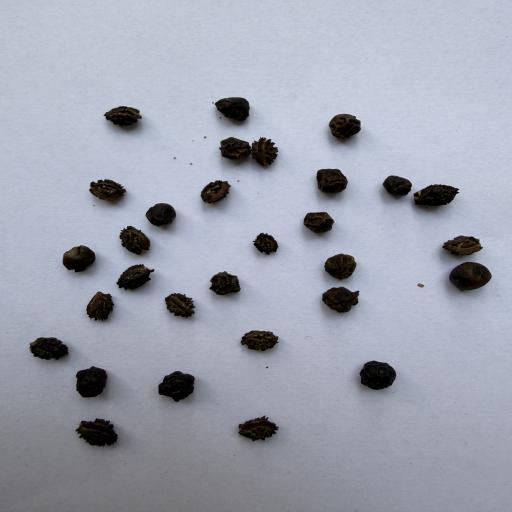Black_pepper: (315, 280, 383, 326), (198, 266, 254, 299), (155, 370, 196, 402), (70, 367, 109, 399), (210, 95, 254, 123), (452, 261, 492, 291), (60, 244, 98, 275), (362, 361, 398, 391), (328, 113, 363, 140), (143, 202, 179, 228), (318, 167, 350, 194), (322, 253, 356, 278), (302, 210, 335, 234), (382, 174, 414, 198), (218, 136, 250, 159)
papaya_seed: (225, 410, 297, 454), (64, 409, 130, 449), (22, 327, 92, 363), (75, 171, 141, 205), (245, 224, 294, 262), (100, 103, 156, 135), (189, 174, 244, 206), (232, 322, 286, 354), (111, 262, 168, 292), (249, 131, 295, 168), (115, 219, 150, 257), (82, 290, 120, 325), (165, 288, 197, 321)
